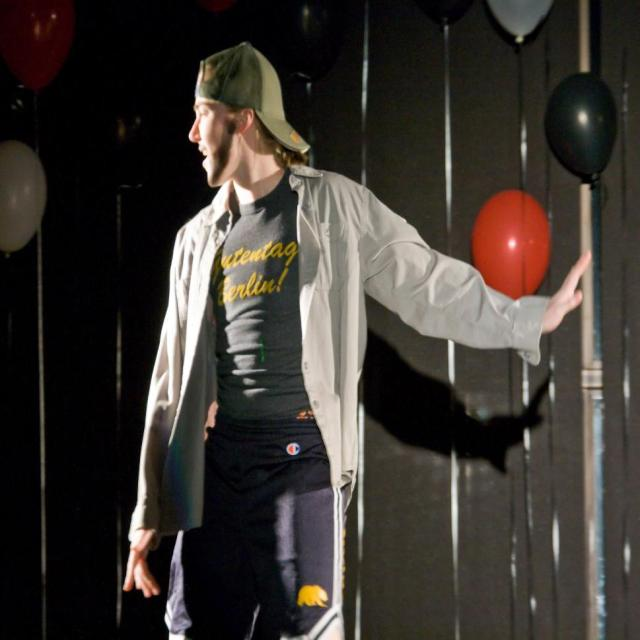Hat: (192, 38, 310, 154)
